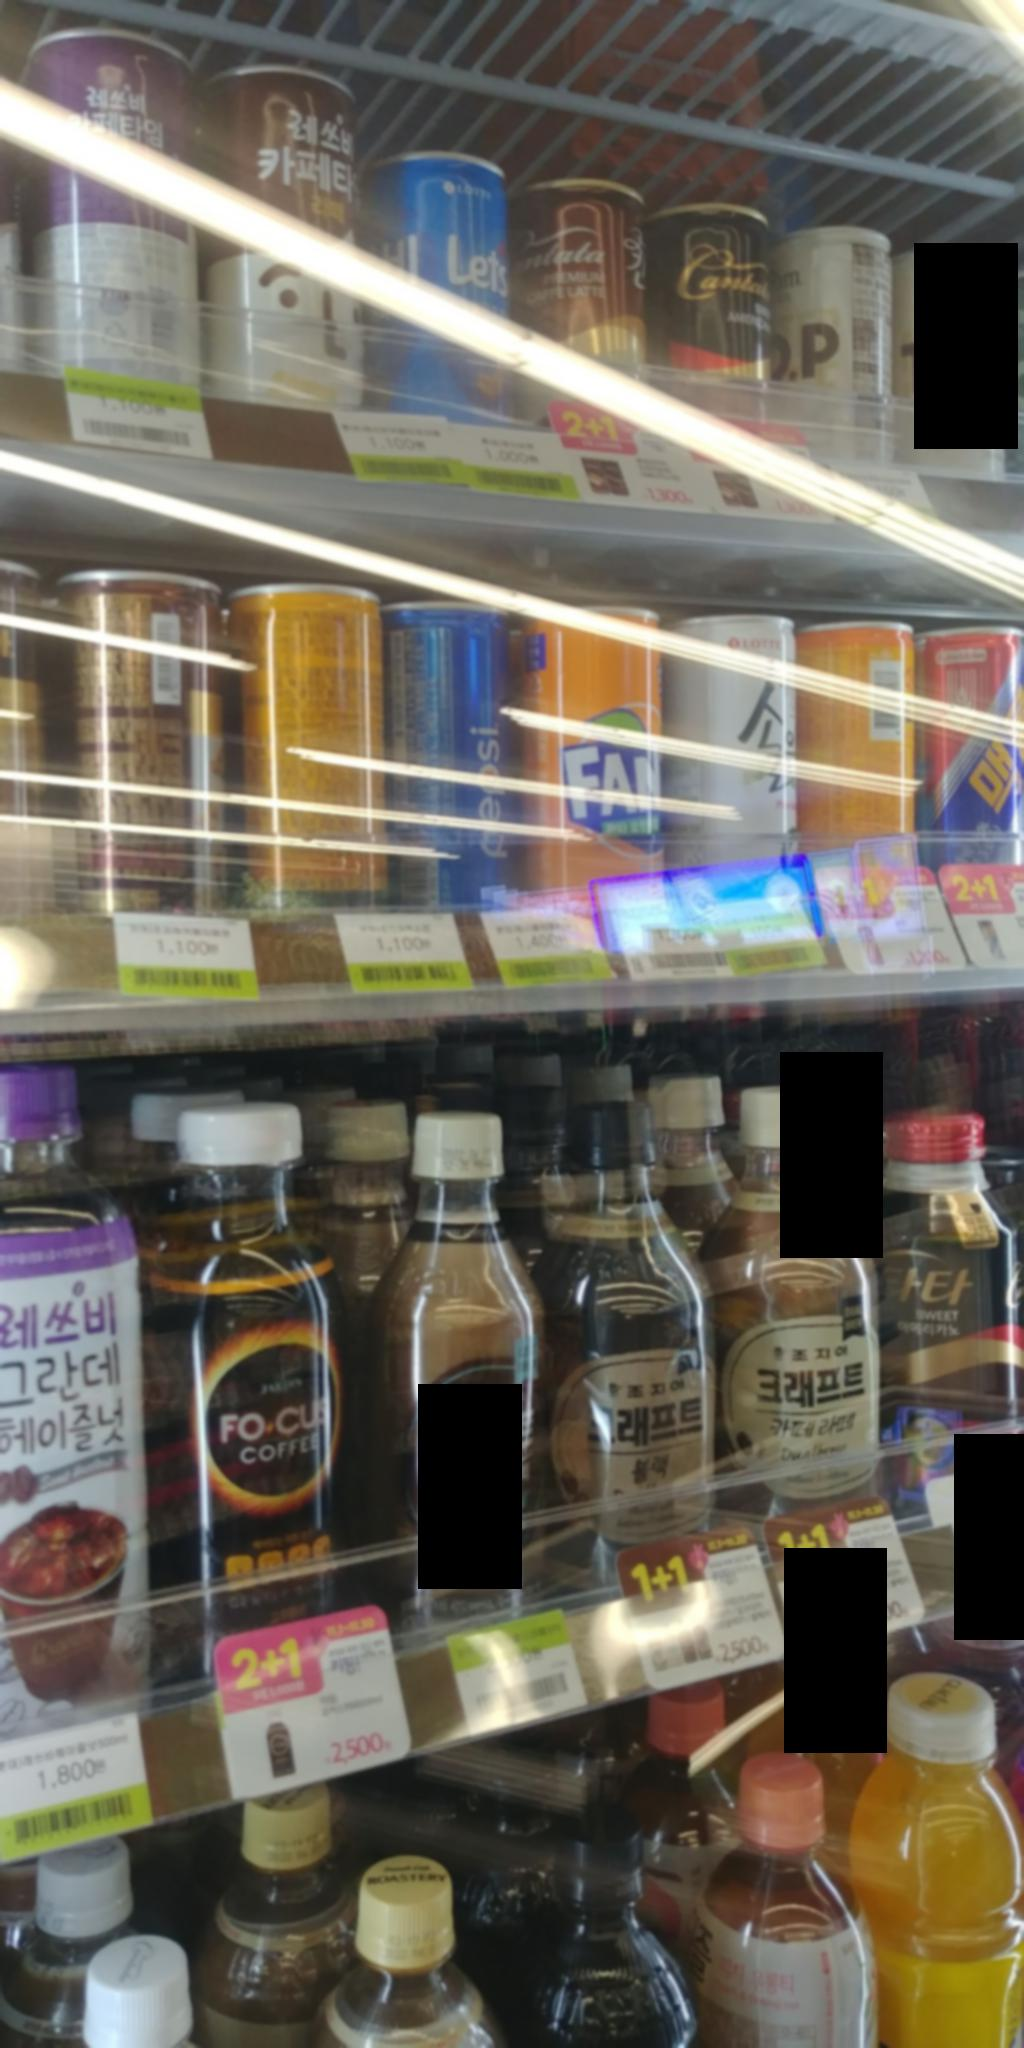georgiacraft_black: (500, 1097, 724, 1595)
letsbe: (338, 125, 534, 445)
